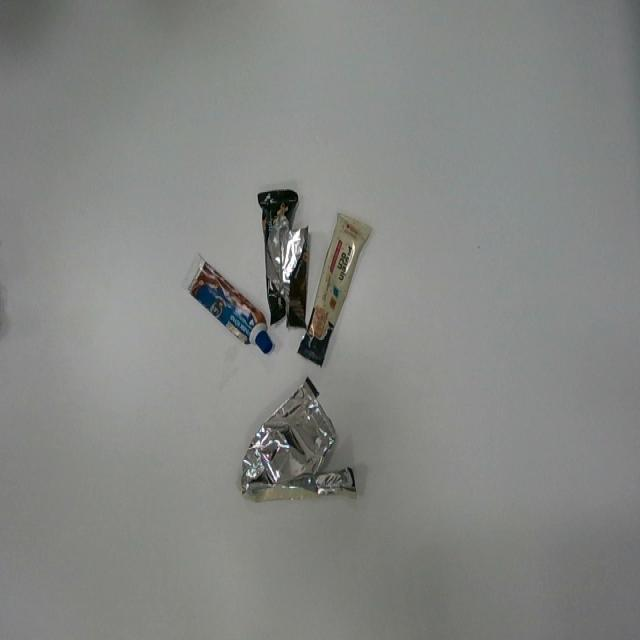plastic: (240, 374, 361, 505), (298, 211, 373, 369), (186, 254, 274, 358), (256, 188, 310, 334)
